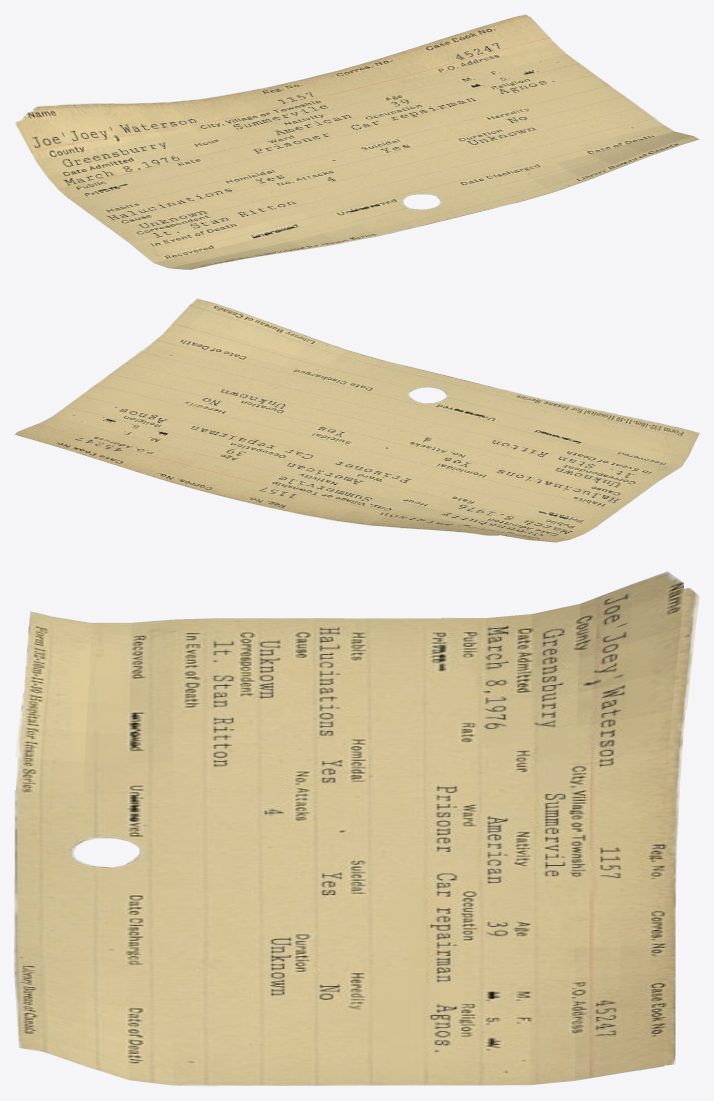
File: asylum.fbx
3 views of the same model, one above another, from view 1: azimuth 30°, elevation 25°; view 2: azimuth 150°, elevation 25°; view 3: azimuth 270°, elevation 25° (orthographic). The views are drawn at different scales.
Parts seen in each view (by area): view 1: AsylumPaper; view 2: AsylumPaper; view 3: AsylumPaper.
Part boxes in pixels (x1,y1,x2,y2): AsylumPaper: [14, 14, 699, 269]; AsylumPaper: [14, 298, 699, 542]; AsylumPaper: [14, 571, 699, 1086].
Bounding box in the file's own units: 19.06 × 1.22 × 11.78.
